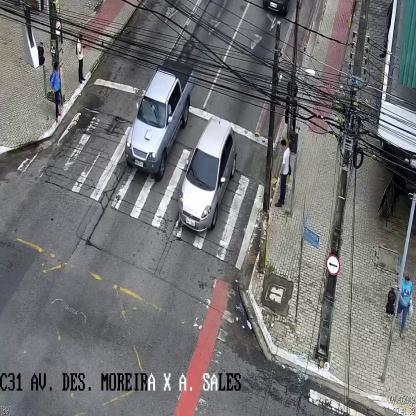car: (125, 56, 195, 183), (177, 117, 237, 235)
person: (274, 140, 290, 208), (397, 272, 412, 340), (49, 62, 62, 122), (75, 32, 86, 84)
